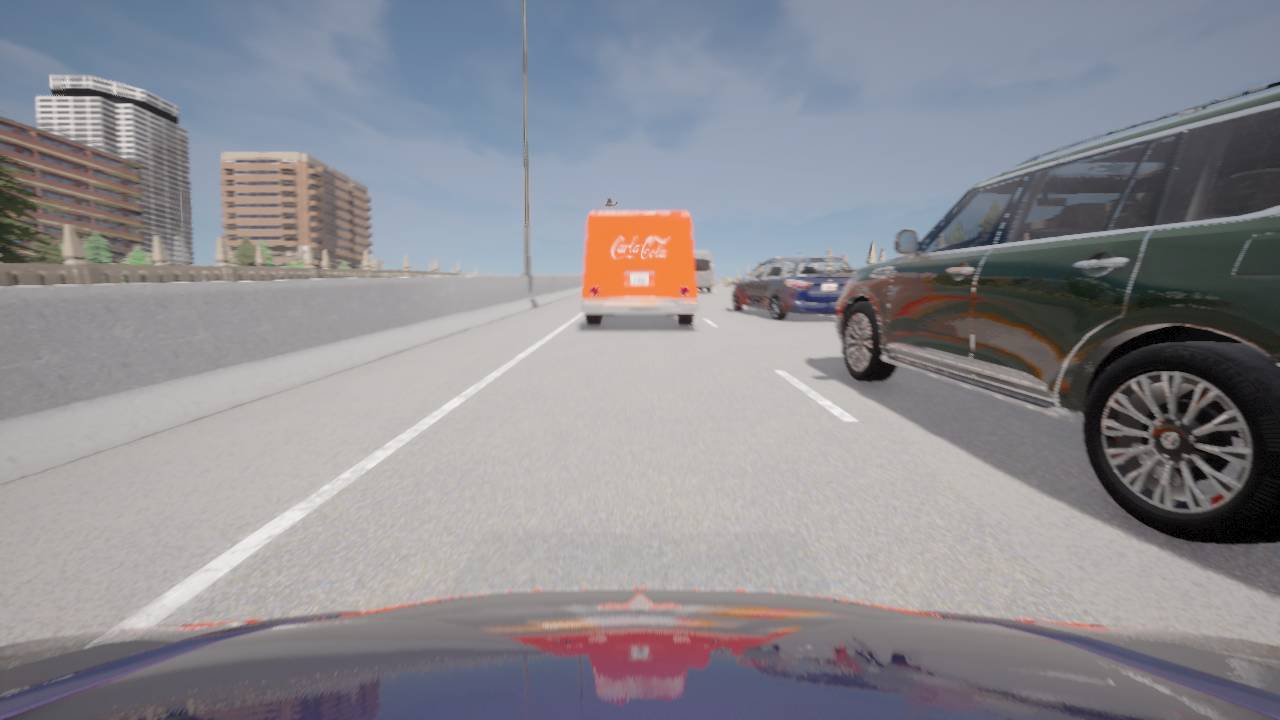cyclist: (836, 81, 1279, 544), (0, 588, 1279, 719), (581, 212, 699, 325), (731, 256, 854, 320), (693, 251, 713, 292)
